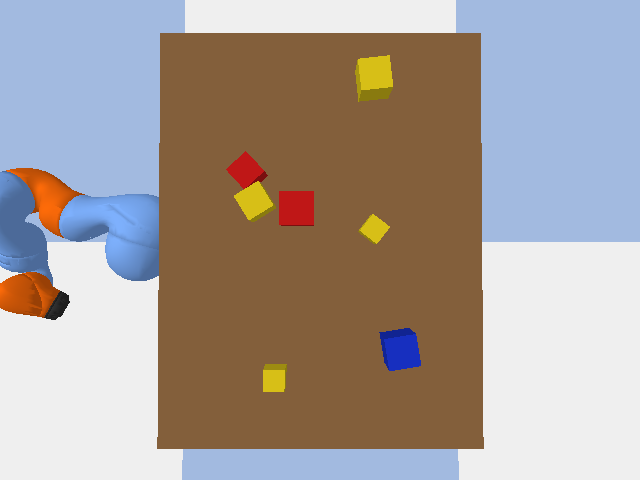blue_obj: (379, 328, 420, 370)
red_obj: (226, 151, 267, 188), (279, 191, 313, 225)
yellow_obj: (355, 55, 392, 101), (234, 181, 275, 221), (358, 214, 389, 243), (263, 364, 286, 391)
